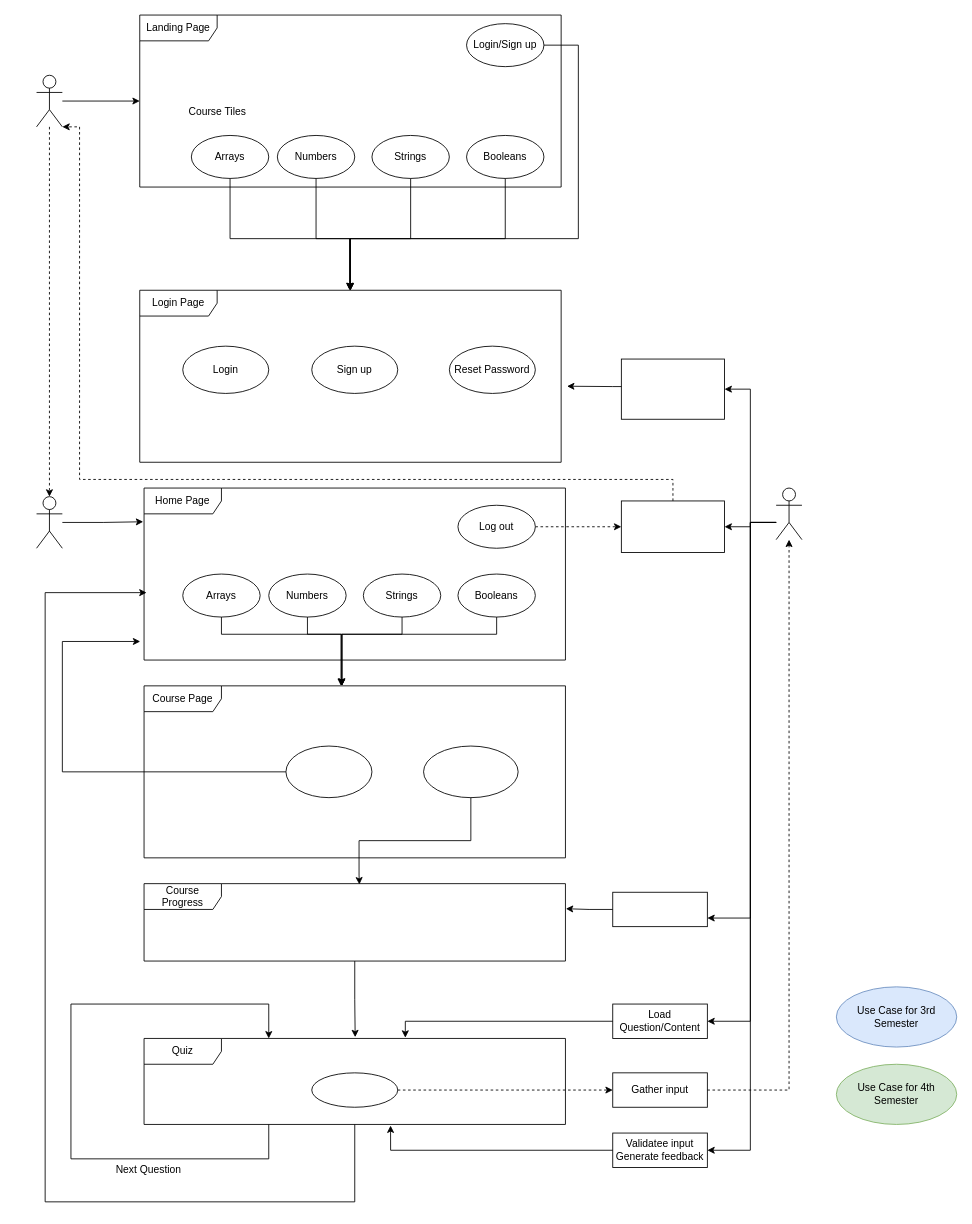
This 972x1224 diagram has some shape labels left out. The shapes that lost their labels are listed below. From the top down, each one's centre as x and y in pixels, then its label:
(49,100): Visitor
(672,388): Create user/login user/send reset email
(49,522): Logged in User
(672,526): Log out user
(788,513): Backend
(328,771): Back
(470,771): Play
(659,909): Load user Progress
(354,1089): Answer
